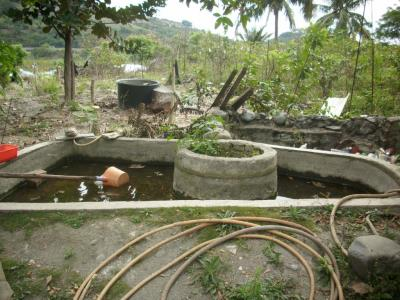bowl: (100, 165, 130, 187)
bucket: (116, 77, 160, 109)
